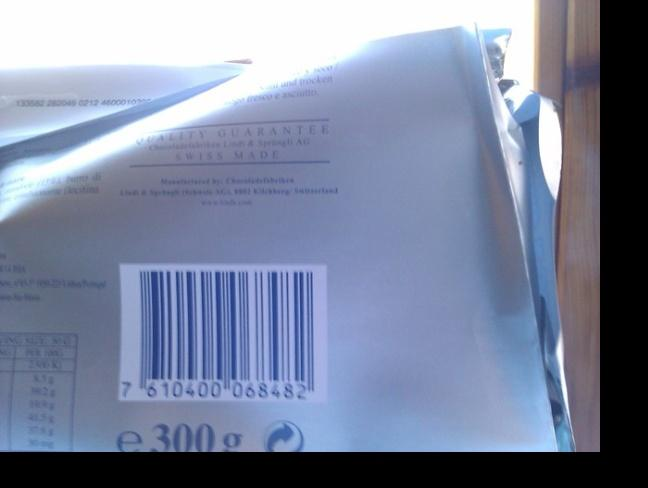Barcode: (118, 264, 328, 404)
